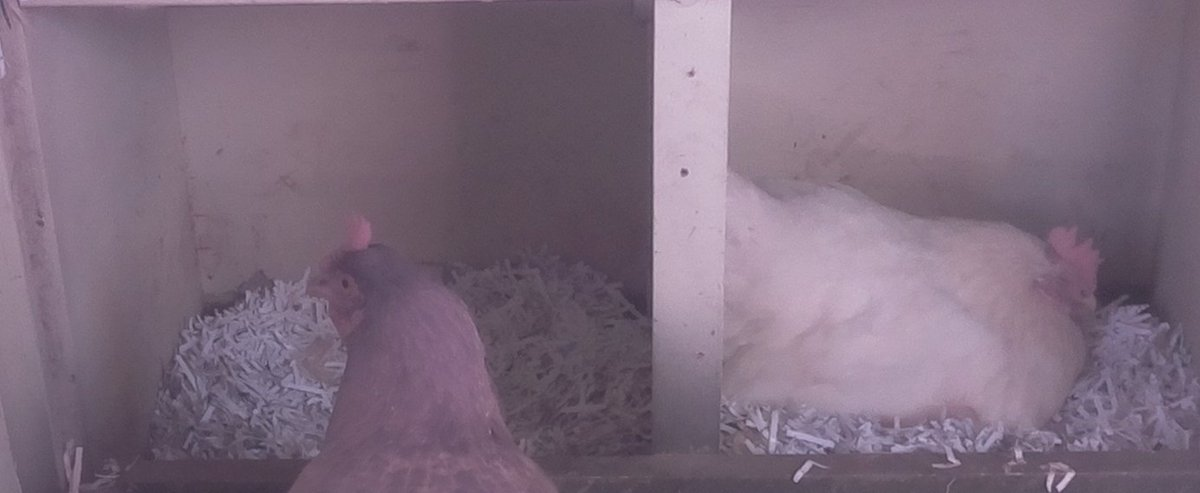hen: (728, 193, 1106, 431), (290, 212, 552, 493)
